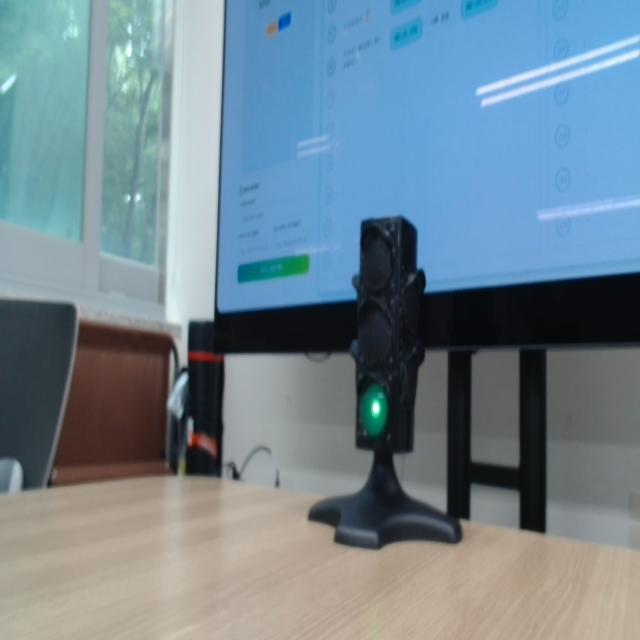green_light: (360, 383, 388, 439)
